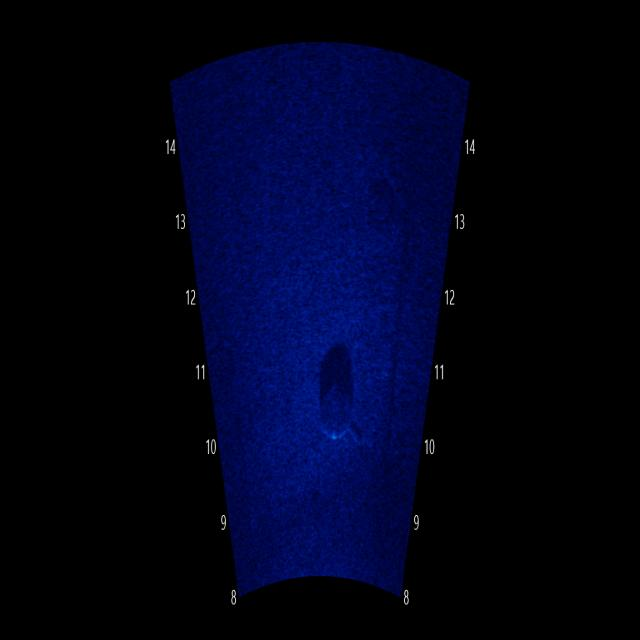circle: (306, 367, 364, 452)
